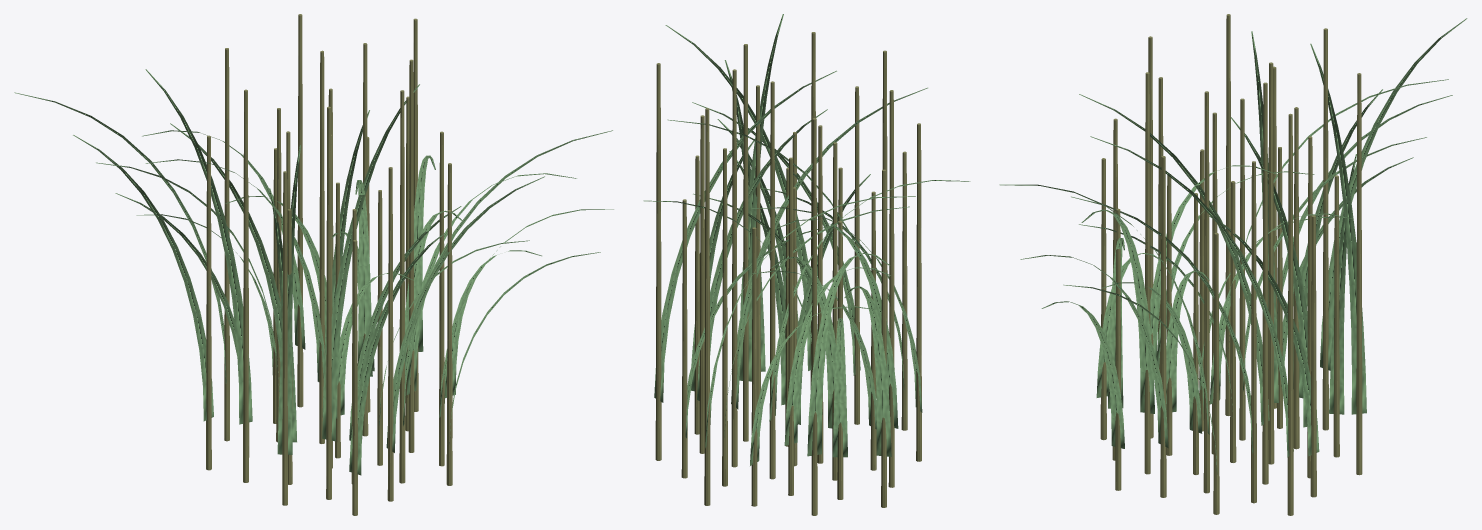
Rendered from reed_bed_swamp_and_mangrove_22627.glb.
3 views of the same model, side by side, from view 1: azimuth 30°, elevation 25°; view 2: azimuth 150°, elevation 25°; view 3: azimuth 270°, elevation 25° (orthographic). The views are drawn at different scales.
Visible parts, largest first — view 1: reed-bed; view 2: reed-bed; view 3: reed-bed.
Part boxes in pixels (x1,y1,x2,y2): reed-bed: (14, 14, 613, 515); reed-bed: (643, 14, 970, 515); reed-bed: (999, 14, 1467, 515).
Size of the model in its own units: 1.87 by 1.7 by 1.8.
2 materials, 2 textured.
